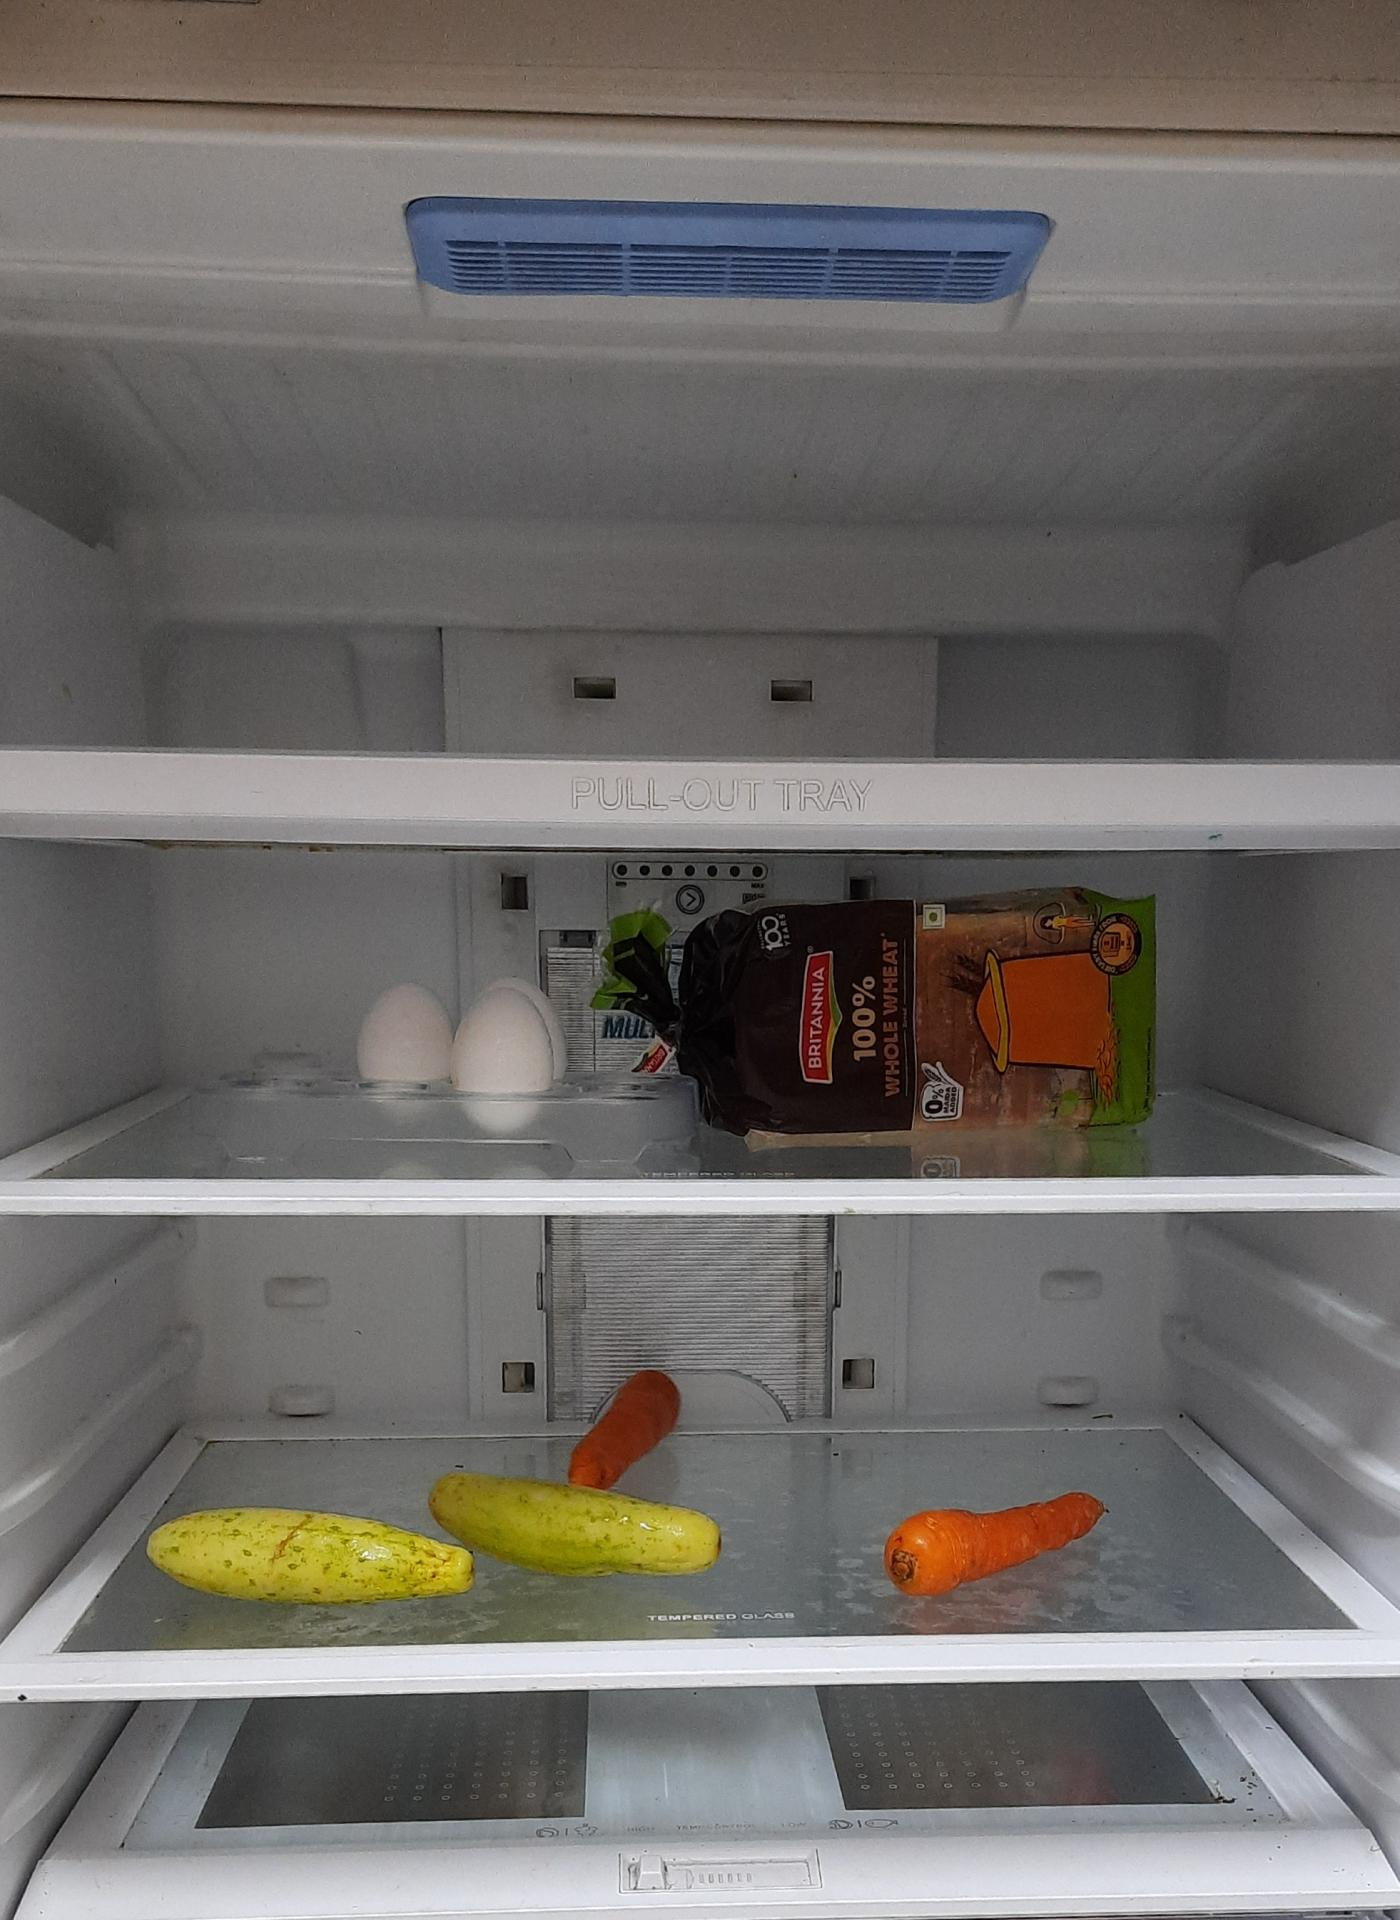bread: (607, 882, 1166, 1137)
carrots: (880, 1491, 1106, 1597), (568, 1376, 687, 1498)
cucumber: (142, 1512, 479, 1608), (432, 1479, 728, 1585)
egg: (356, 981, 567, 1121)
